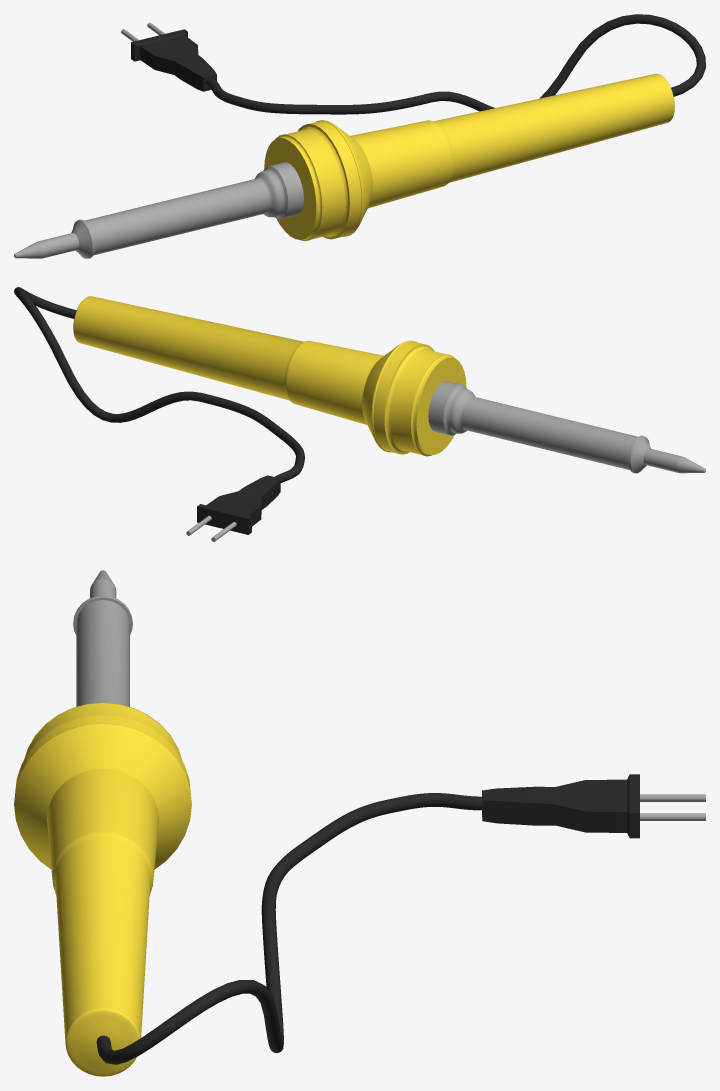
The model's file is solder_rod.fbx.
The picture shows the model from 3 angles, top to bottom: view 1: azimuth 30°, elevation 25°; view 2: azimuth 150°, elevation 25°; view 3: azimuth 270°, elevation 25°; orthographic projection. The views are drawn at different scales.
Visible parts, largest first — view 1: base, metal rod, wire, socket; view 2: base, metal rod, wire, socket; view 3: base, wire, socket, metal rod, plug_pin.
Part boxes in pixels (box(x1,y1,x2,y2)): base: box(264, 73, 674, 241); metal rod: box(14, 162, 303, 258); wire: box(206, 14, 705, 114); socket: box(131, 29, 216, 91); base: box(73, 296, 466, 456); metal rod: box(428, 381, 705, 473); wire: box(14, 287, 304, 482); socket: box(197, 475, 280, 534); base: box(14, 702, 191, 1076); wire: box(96, 793, 482, 1064); socket: box(482, 774, 639, 838); metal rod: box(73, 570, 132, 706); plug_pin: box(640, 794, 705, 820).
Bounding box in the file's own units: 340 × 50.11 × 195.
